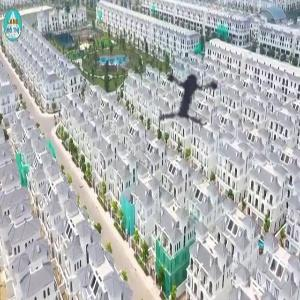drone: (146, 46, 234, 134)
